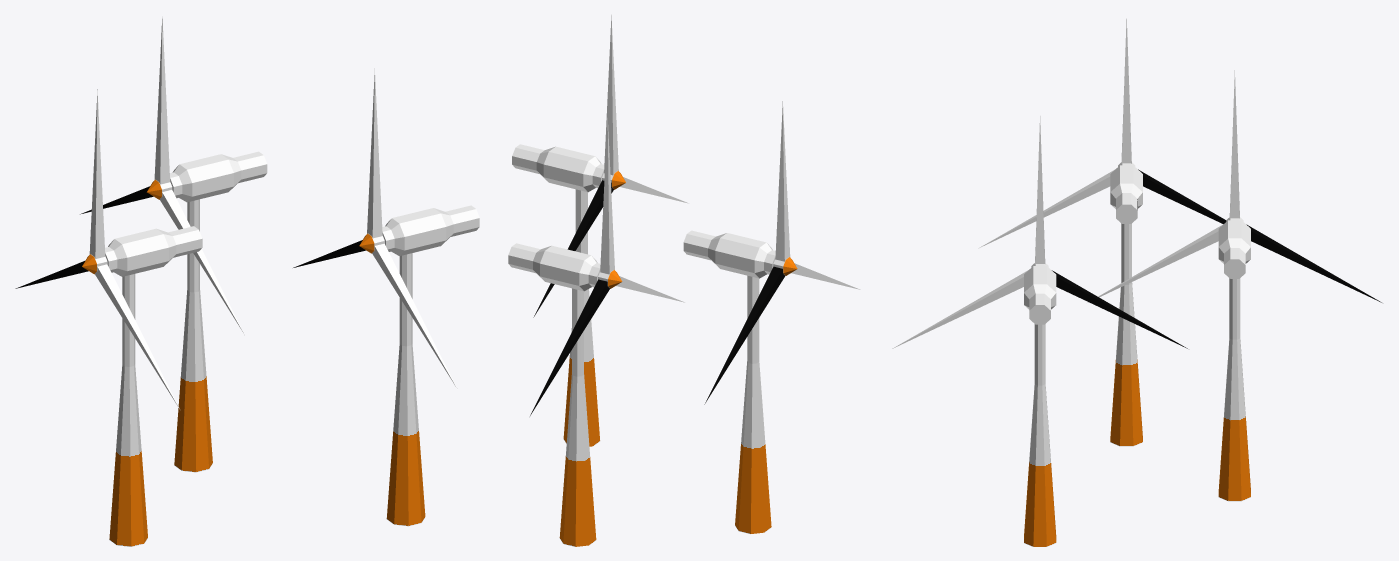
File: WindTurbines.fbx
3 renders of one model, left to right at view 1: azimuth 30°, elevation 25°; view 2: azimuth 150°, elevation 25°; view 3: azimuth 270°, elevation 25°, orthographic. The views are drawn at different scales.
Visible parts, largest first — view 1: cone_5, cone, cone_9, cylinder_11, cylinder_7, cylinder_3, pyramid_6, pyramid, pyramid_3, pyramid_1, pyramid_7, pyramid_4 (+6 smaller); view 2: cone_5, cone, cone_9, cylinder_11, cylinder_7, cylinder_3, pyramid, pyramid_3, pyramid_5, pyramid_2, pyramid_6, pyramid_8 (+6 smaller); view 3: cone_5, cone_9, cone, pyramid_5, pyramid_8, pyramid_7, pyramid_4, pyramid_1, pyramid_3, pyramid, pyramid_6, pyramid_2 (+9 smaller).
Part boxes in pixels (left/top/right/bottom): cone_5: left=174, top=290, right=212, bottom=472; cone: left=109, top=364, right=147, bottom=546; cone_9: left=386, top=343, right=425, bottom=526; cylinder_11: left=392, top=208, right=446, bottom=255; cylinder_7: left=180, top=154, right=233, bottom=202; cylinder_3: left=115, top=228, right=168, bottom=276; pyramid_6: left=367, top=68, right=382, bottom=238; pyramid: left=89, top=89, right=105, bottom=258; pyramid_3: left=154, top=16, right=170, bottom=184; pyramid_1: left=95, top=264, right=179, bottom=409; pyramid_7: left=372, top=243, right=457, bottom=389; pyramid_4: left=159, top=190, right=244, bottom=334; cone_5: left=559, top=374, right=596, bottom=546; cone: left=735, top=361, right=771, bottom=533; cone_9: left=563, top=289, right=600, bottom=446; cylinder_11: left=543, top=146, right=594, bottom=192; cylinder_7: left=540, top=245, right=590, bottom=291; cylinder_3: left=715, top=233, right=766, bottom=278; pyramid: left=775, top=101, right=790, bottom=261; pyramid_3: left=600, top=116, right=614, bottom=274; pyramid_5: left=530, top=279, right=609, bottom=415; pyramid_2: left=704, top=266, right=784, bottom=404; pyramid_6: left=604, top=14, right=618, bottom=175; pyramid_8: left=533, top=180, right=613, bottom=317; cone_5: left=1218, top=338, right=1250, bottom=501; cone_9: left=1024, top=384, right=1056, bottom=546; cone: left=1110, top=283, right=1142, bottom=446; pyramid_5: left=1246, top=224, right=1381, bottom=302; pyramid_8: left=1052, top=270, right=1187, bottom=348; pyramid_7: left=892, top=270, right=1028, bottom=348; pyramid_4: left=1087, top=224, right=1222, bottom=302; pyramid_1: left=978, top=169, right=1114, bottom=248; pyramid_3: left=1229, top=70, right=1239, bottom=218; pyramid: left=1121, top=18, right=1131, bottom=163; pyramid_6: left=1035, top=116, right=1045, bottom=263; pyramid_2: left=1138, top=169, right=1226, bottom=223.
Bounding box in the file's own units: 516 × 656 × 714.
1 material, 1 textured.
